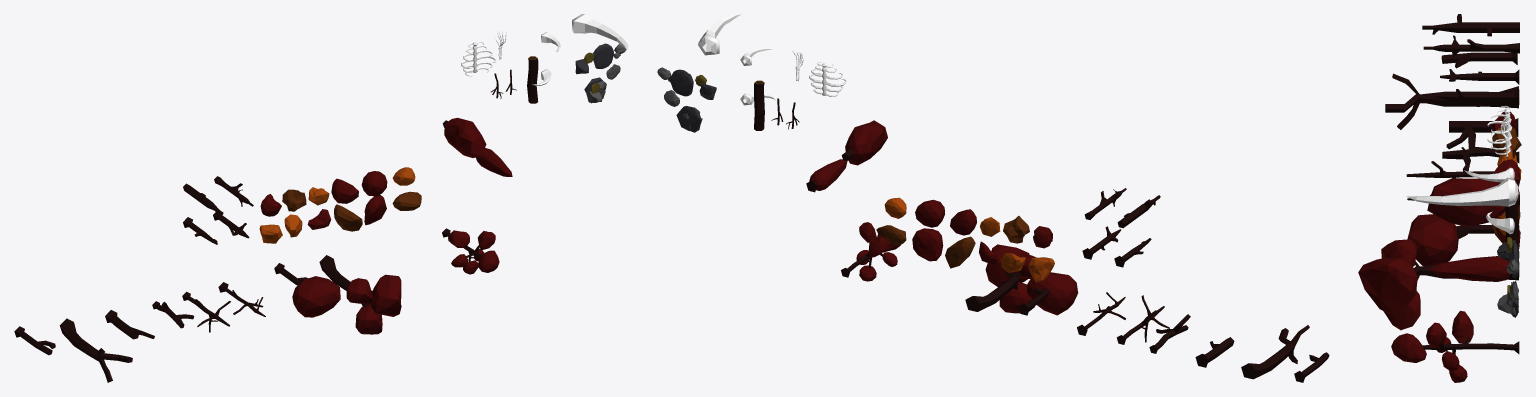
The model's file is forest_3.fbx.
The picture shows the model from 3 angles, left to right: view 1: azimuth 30°, elevation 25°; view 2: azimuth 150°, elevation 25°; view 3: azimuth 270°, elevation 25°; orthographic projection. The views are drawn at different scales.
Parts seen in each view (by area): view 1: forest4_3, forest18_3, forest5_3, forest19_3, forest7_3, forest12_3, forest3_3, forest28_3, forest38_3, forest42_3, forest40_3; view 2: forest4_3, forest18_3, forest5_3, forest19_3, forest7_3, forest39_3, forest3_3, forest12_3, forest42_3, forest38_3, forest28_3; view 3: forest4_3, forest5_3, forest18_3, forest19_3, forest3_3, forest7_3, forest12_3, forest21_3, forest20_3, forest6_3, forest9_3, forest1_3 (+13 smaller).
Part boxes in pixels (bbox=[...]): forest4_3: bbox=[319, 255, 401, 334]; forest18_3: bbox=[274, 263, 340, 317]; forest5_3: bbox=[442, 228, 499, 274]; forest19_3: bbox=[442, 117, 486, 157]; forest7_3: bbox=[59, 318, 132, 382]; forest12_3: bbox=[572, 14, 628, 49]; forest3_3: bbox=[475, 148, 512, 176]; forest28_3: bbox=[461, 42, 496, 76]; forest38_3: bbox=[334, 204, 362, 231]; forest42_3: bbox=[361, 171, 387, 196]; forest40_3: bbox=[331, 178, 358, 203]; forest4_3: bbox=[965, 244, 1036, 313]; forest18_3: bbox=[1018, 272, 1078, 315]; forest5_3: bbox=[841, 222, 900, 281]; forest19_3: bbox=[841, 120, 887, 165]; forest7_3: bbox=[1241, 325, 1309, 379]; forest39_3: bbox=[912, 228, 943, 261]; forest3_3: bbox=[806, 159, 847, 192]; forest12_3: bbox=[698, 14, 741, 55]; forest42_3: bbox=[915, 199, 944, 227]; forest38_3: bbox=[945, 236, 975, 268]; forest28_3: bbox=[809, 61, 846, 96]; forest4_3: bbox=[1358, 239, 1518, 330]; forest5_3: bbox=[1391, 310, 1519, 382]; forest18_3: bbox=[1407, 214, 1494, 265]; forest19_3: bbox=[1427, 178, 1519, 227]; forest3_3: bbox=[1427, 256, 1519, 281]; forest7_3: bbox=[1385, 73, 1518, 129]; forest12_3: bbox=[1406, 177, 1518, 206]; forest21_3: bbox=[1422, 14, 1519, 36]; forest20_3: bbox=[1423, 35, 1519, 60]; forest6_3: bbox=[1441, 52, 1517, 68]; forest9_3: bbox=[1442, 121, 1519, 171]; forest1_3: bbox=[1436, 89, 1519, 106].
Size of the model in its own units: 3976 by 679 by 1463.
